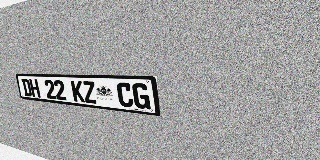plate: (15, 74, 160, 116)
